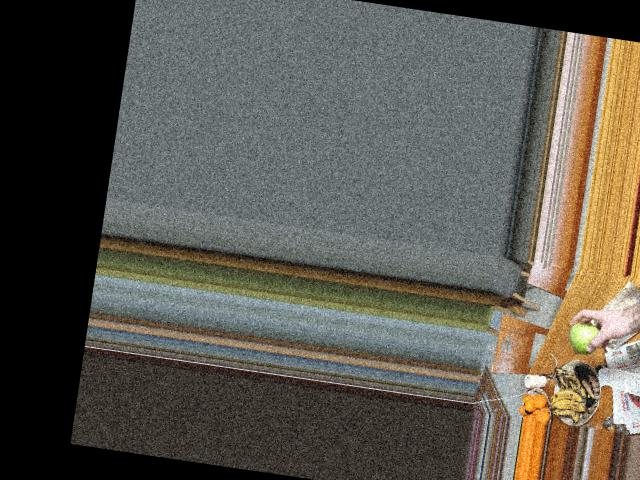apple: (565, 321, 605, 355)
